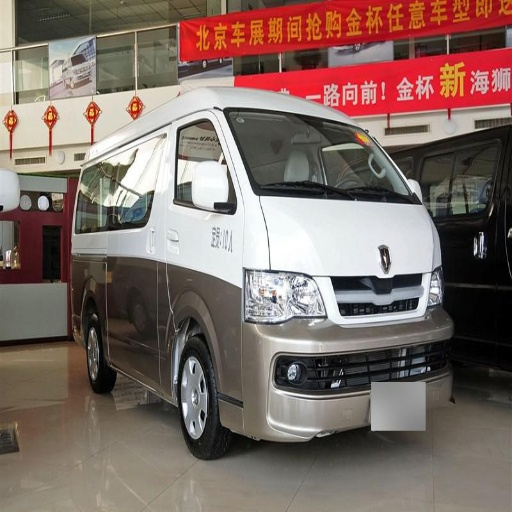front_bumper: (220, 270, 452, 442)
front_right_door: (167, 111, 241, 266)
front_right_light: (246, 270, 326, 323)
trunk: (46, 248, 206, 371)
